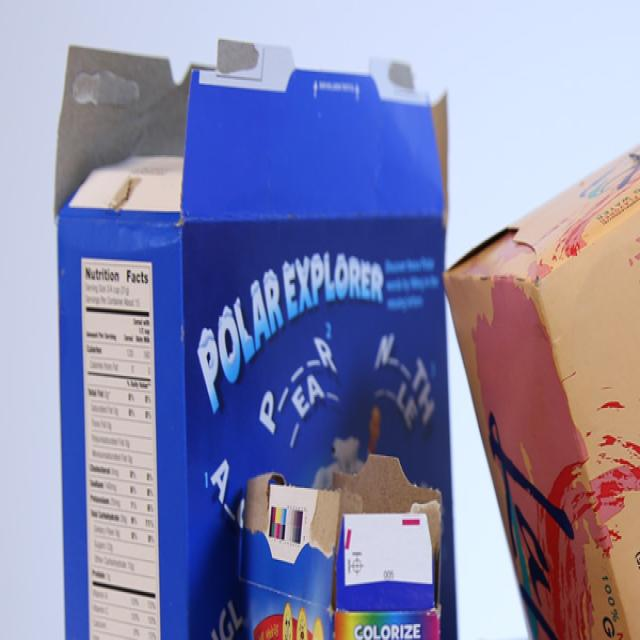cardboard: (63, 35, 452, 640), (460, 152, 639, 640)
